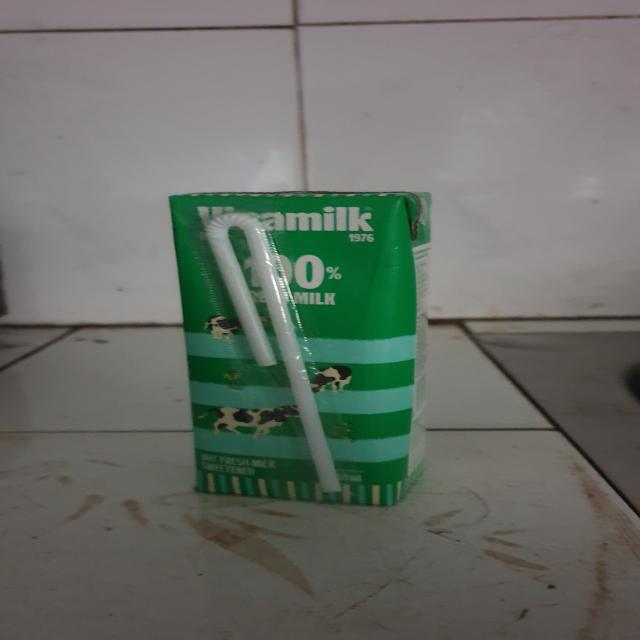Vina: (168, 189, 441, 511)
